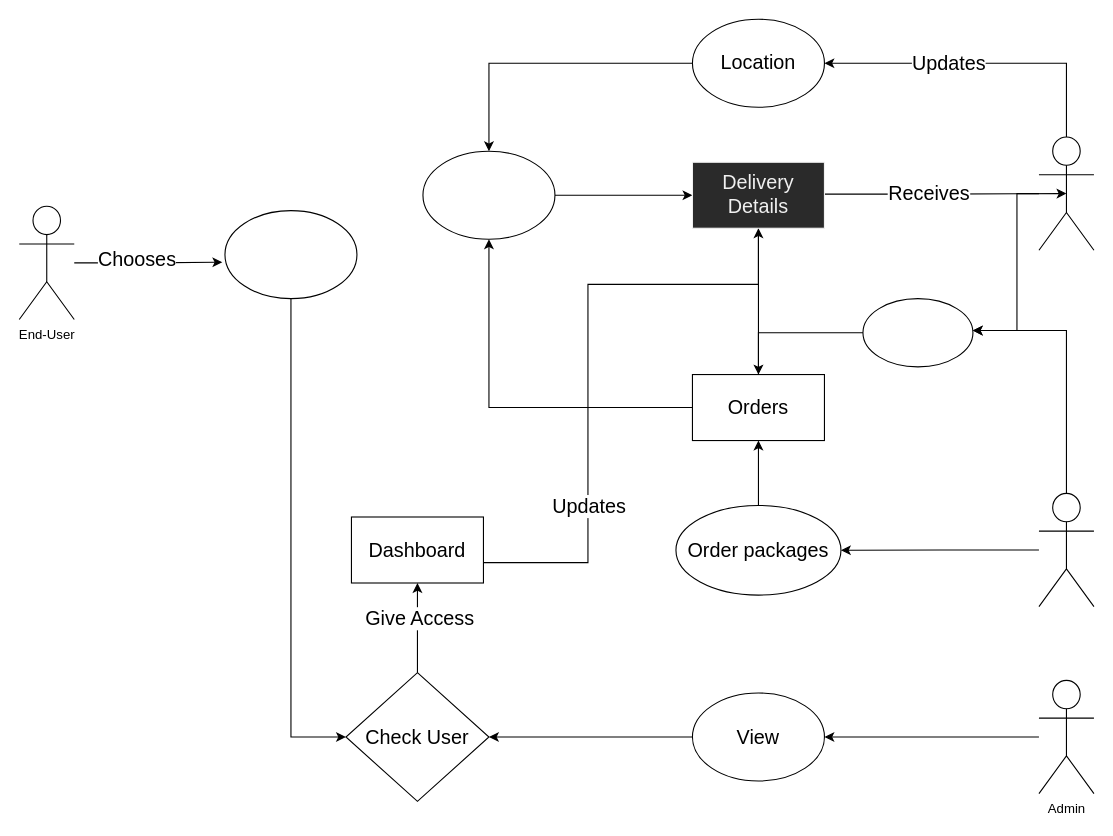
The diagram is 1113 pixels wide and 836 high, and some of its shapes have lost their labels. The centre of each missing label's shape, as x and y in pixels:
Calculate Route: the point at 488,194
Cancel: the point at 917,332
Driver: the point at 1066,193
Recipient: the point at 1066,549
View As: the point at 290,254
